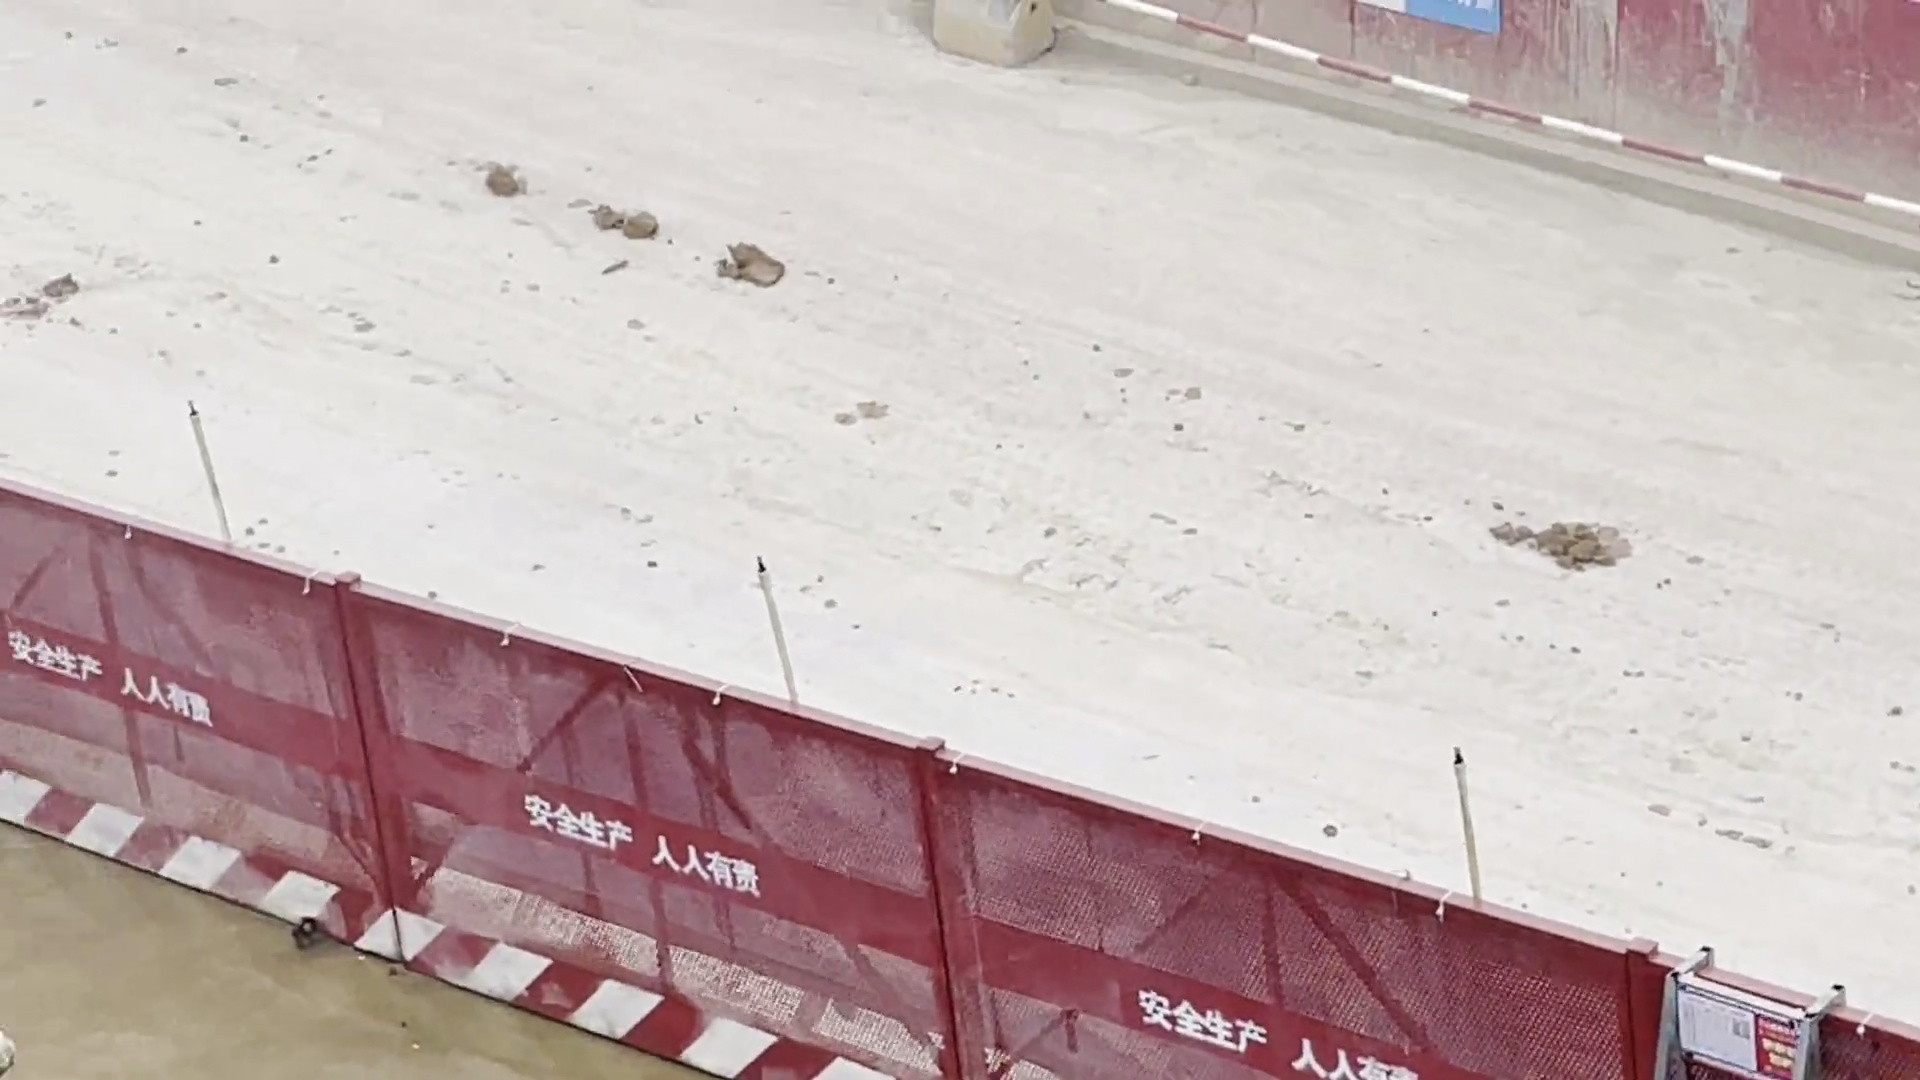fence: (1, 414, 1698, 1073)
